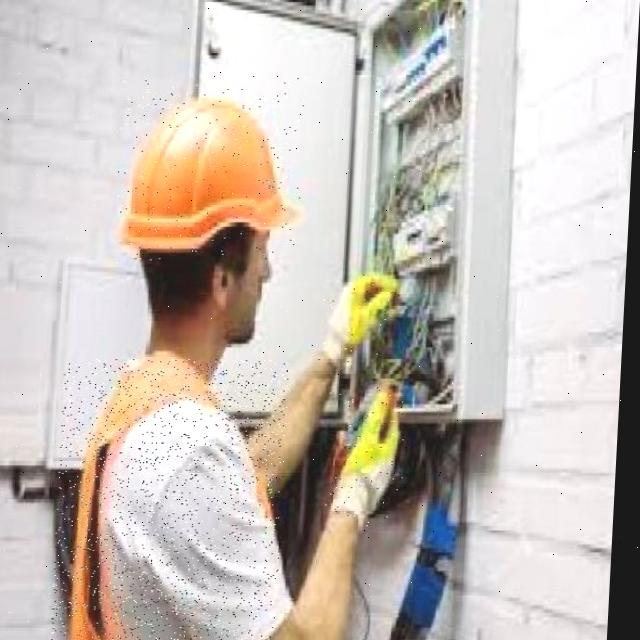Gloves: (326, 270, 404, 365)
Helmet: (120, 93, 310, 254)
Safety-Boot: (330, 377, 410, 533)
